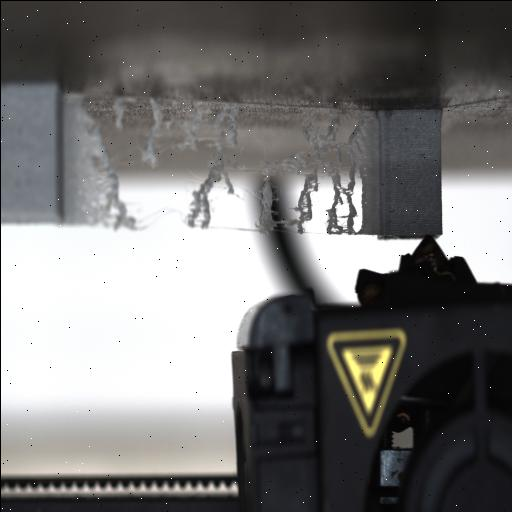stringing: (237, 110, 373, 236), (138, 96, 168, 168)
